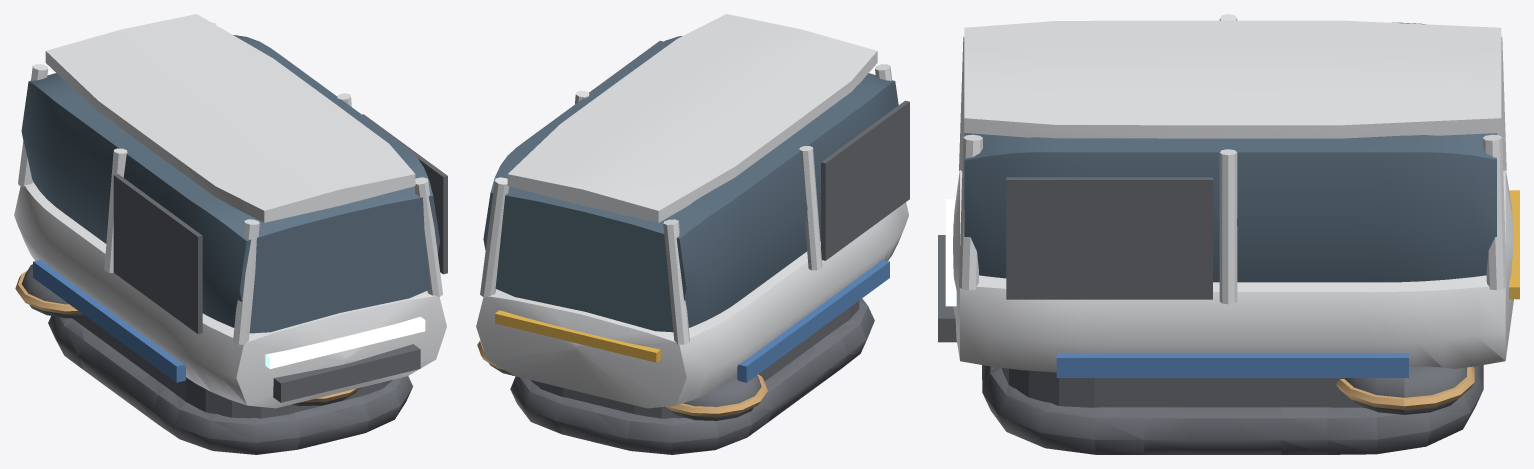
File: hover-transit-and-antigrav-fleet-compact-city-pod-94379a6e__17076.glb
3 views of the same model, side by side, from view 1: azimuth 30°, elevation 25°; view 2: azimuth 150°, elevation 25°; view 3: azimuth 270°, elevation 25° (orthographic). The views are drawn at different scales.
Parts seen in each view (by area): view 1: compact-city-pod; view 2: compact-city-pod; view 3: compact-city-pod.
Part boxes in pixels (left/top/right/bottom): compact-city-pod: left=14, top=14, right=447, bottom=454; compact-city-pod: left=476, top=14, right=909, bottom=454; compact-city-pod: left=938, top=14, right=1519, bottom=454.
Bounding box in the file's own units: 1.77 × 1.64 × 2.65.
